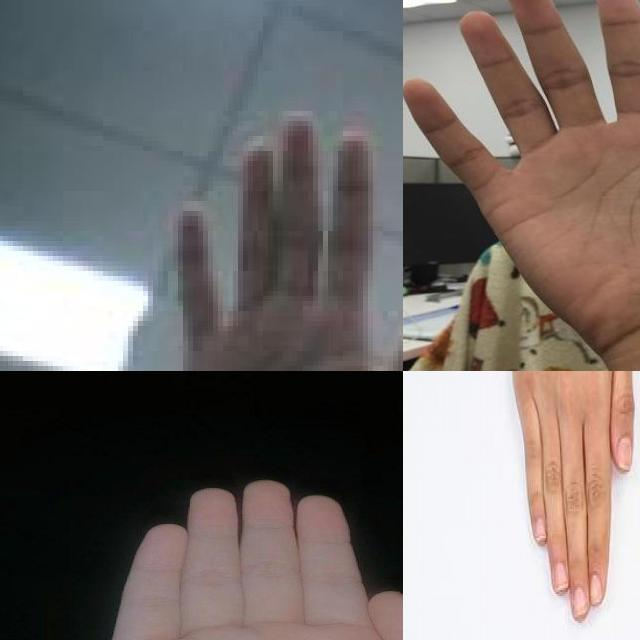hand: (403, 0, 640, 327), (173, 111, 403, 371), (97, 478, 403, 640), (511, 371, 635, 620)
